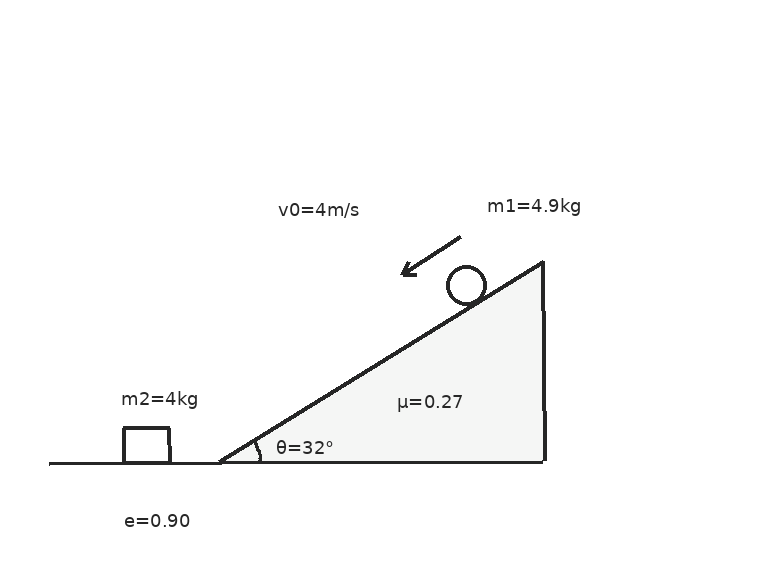ball: (444, 263, 488, 307)
block: (121, 426, 171, 464)
ramp: (218, 259, 544, 464)
